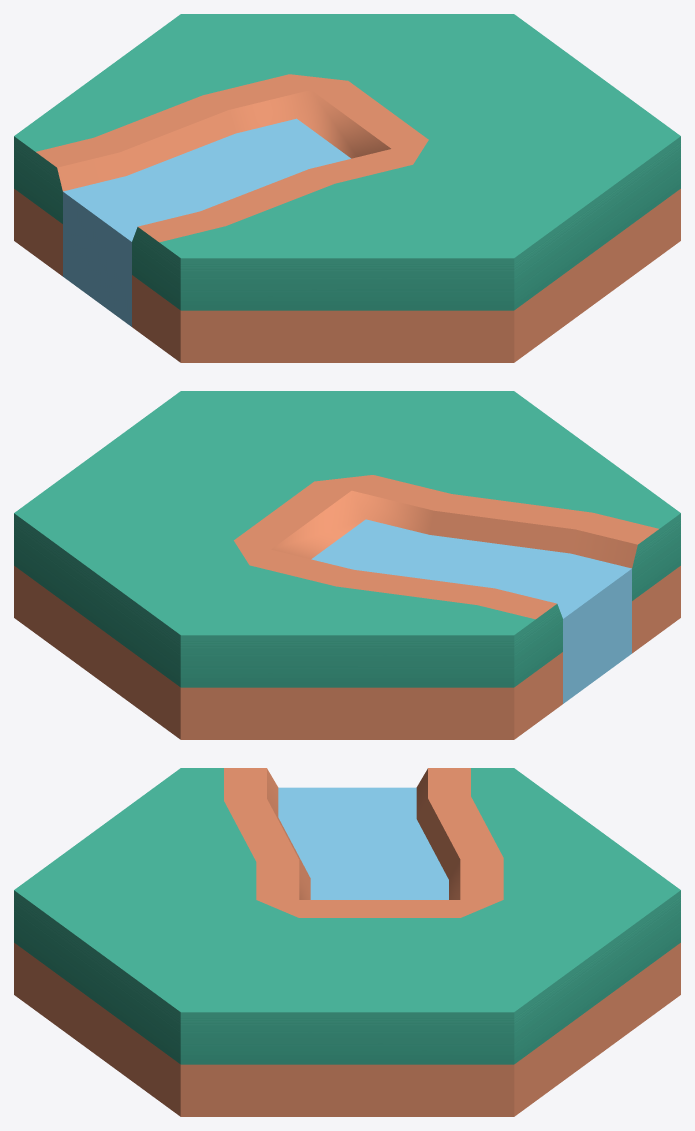
Rendered from river-end.glb.
3 views of the same model, one above another, from view 1: azimuth 30°, elevation 25°; view 2: azimuth 150°, elevation 25°; view 3: azimuth 270°, elevation 25° (orthographic).
Visible parts, largest first — view 1: river-end; view 2: river-end; view 3: river-end.
Boxes of the visible parts, x1=… form: river-end: x1=14, y1=14, x2=680, y2=362; river-end: x1=14, y1=391, x2=680, y2=739; river-end: x1=14, y1=768, x2=680, y2=1116.
Bounding box in the file's own units: 1 × 0.2 × 1.15.
Materials: 1 (1 with a texture image).
